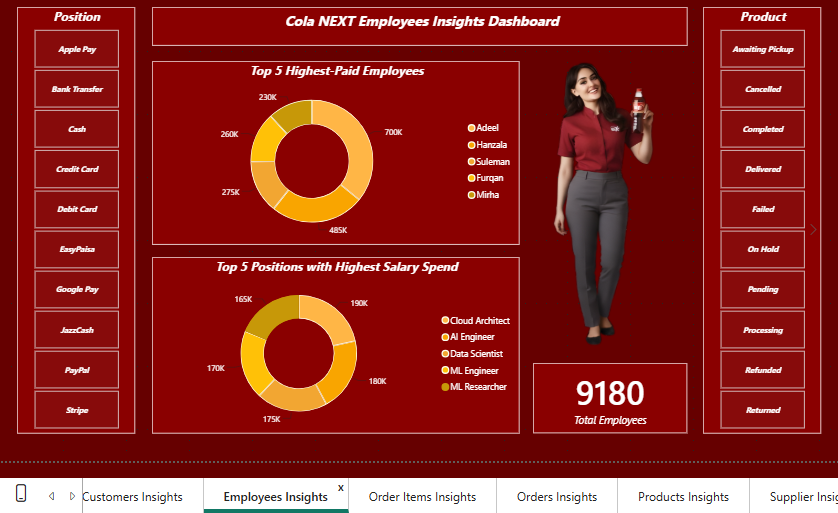

This screenshot's page, from the dashboard's own definition file:
{"tool":"powerbi","page":{"name":"Employees Insights","canvas":[1280,720],"ordinal":1},"visuals":[{"type":"slicer","title":"Position","fields":{"Values":["colanextdb orders.payment_method"]},"box":[25.7,28.3,179.9,650.3],"z":0},{"type":"slicer","title":"Product","fields":{"Values":["colanextdb orders.status"]},"box":[1071.8,28.3,179.9,650.3],"z":1000},{"type":"textbox","box":[231.3,28.3,816.1,59.1],"z":2000},{"type":"donutChart","title":"Top 5 Highest-Paid Employees","fields":{"Y":["Sum(colanextdb employees.salary)"],"Category":["colanextdb employees.first_name"]},"box":[231.3,110.5,560.3,280.2],"z":3000},{"type":"donutChart","title":"Top 5 Positions with Highest Salary Spend","fields":{"Category":["colanextdb employees.position"],"Y":["Sum(colanextdb employees.salary)"]},"box":[231.3,410,560.3,268.6],"z":4000},{"type":"image","box":[812.2,87.4,214.6,474.2],"z":5000},{"type":"card","fields":{"Values":["Sum(colanextdb employees.employee_id)"]},"box":[812.2,571.9,235.2,106.7],"z":6000}]}

Visuals, with their boxes on the page's 1280x720 design canvas (x1, y1, x2, y2). These are canvas units, not pixel positions in the 838x513 screenshot, which may show the page scaled, cropped or inside an application window:
"Position" slicer: region(26, 28, 206, 679)
"Product" slicer: region(1072, 28, 1252, 679)
textbox: region(231, 28, 1047, 87)
"Top 5 Highest-Paid Employees" donutChart: region(231, 110, 792, 391)
"Top 5 Positions with Highest Salary Spend" donutChart: region(231, 410, 792, 679)
image: region(812, 87, 1027, 562)
card - Sum(colanextdb employees.employee_id): region(812, 572, 1047, 679)
